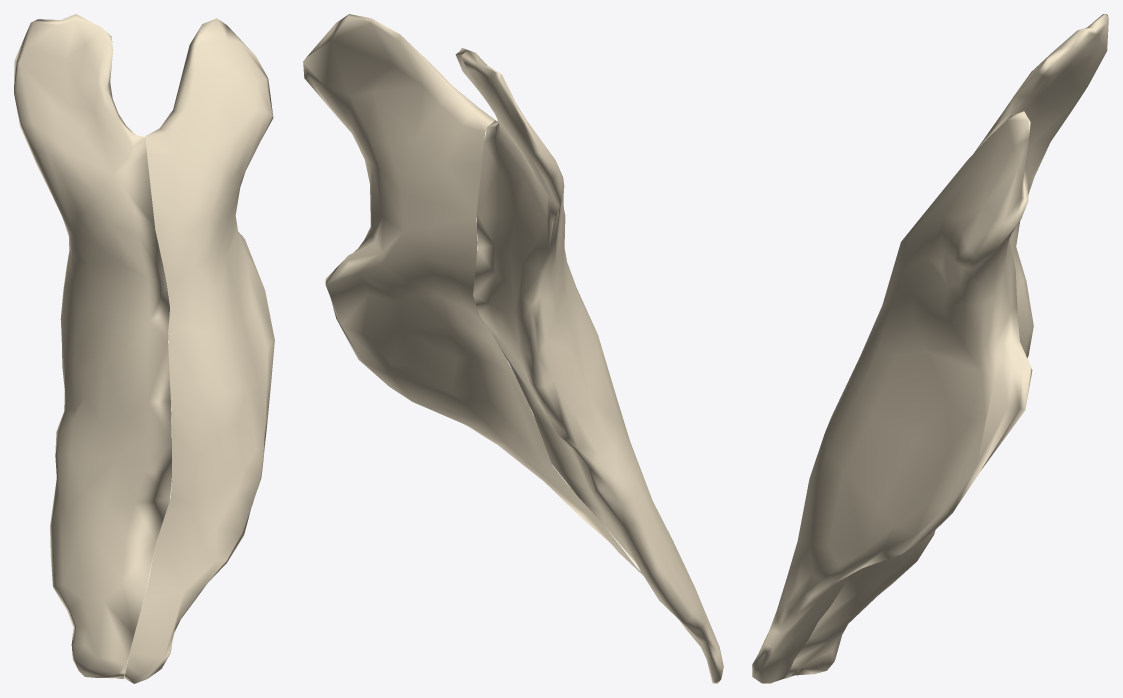
File: vh_m_thymus-40.glb
3 renders of one model, left to right at view 1: azimuth 30°, elevation 25°; view 2: azimuth 150°, elevation 25°; view 3: azimuth 270°, elevation 25°, orthographic. The views are drawn at different scales.
Parts seen in each view (by area): view 1: VH_M_thymus_lobe_L, VH_M_thymus_lobe_R; view 2: VH_M_thymus_lobe_R, VH_M_thymus_lobe_L; view 3: VH_M_thymus_lobe_R, VH_M_thymus_lobe_L.
Boxes of the visible parts, bbox=[...] form: VH_M_thymus_lobe_L: bbox=[14, 14, 171, 678]; VH_M_thymus_lobe_R: bbox=[123, 18, 274, 683]; VH_M_thymus_lobe_R: bbox=[303, 14, 643, 575]; VH_M_thymus_lobe_L: bbox=[455, 48, 723, 683]; VH_M_thymus_lobe_R: bbox=[752, 111, 1032, 683]; VH_M_thymus_lobe_L: bbox=[785, 14, 1108, 678].
Size of the model in its own units: 0.037 by 0.0757 by 0.035.
